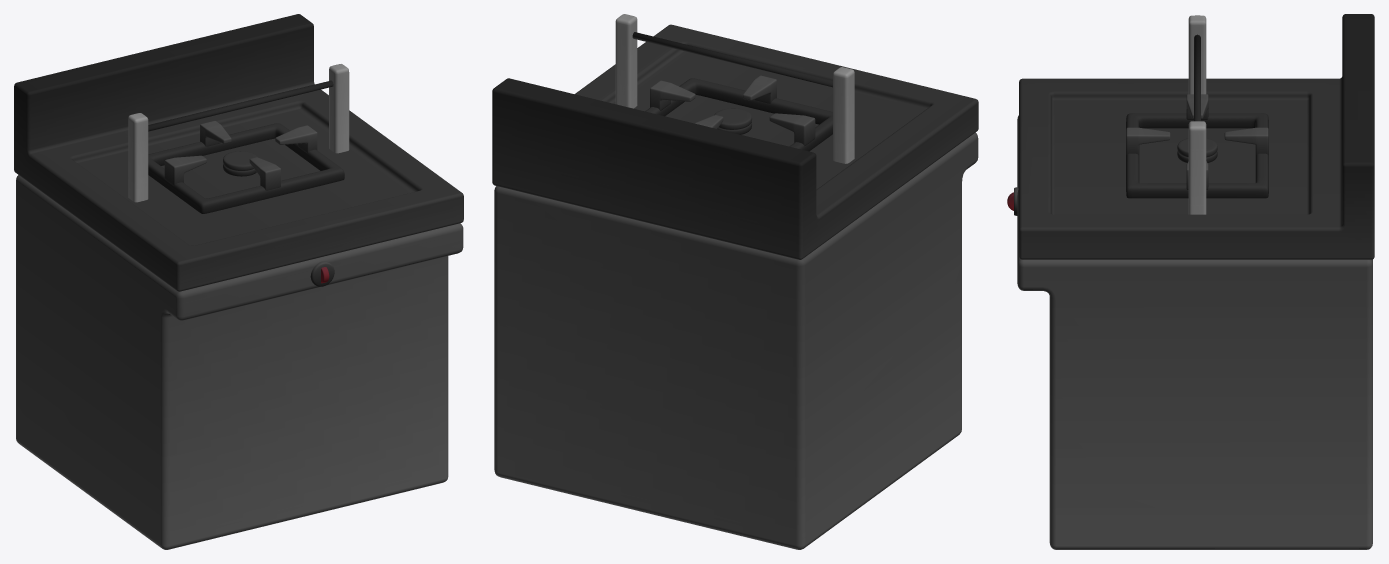
Rendered from HH_Flipper.fbx.
3 renders of one model, left to right at view 1: azimuth 30°, elevation 25°; view 2: azimuth 150°, elevation 25°; view 3: azimuth 270°, elevation 25°, orthographic. The views are drawn at different scales.
Parts seen in each view (by area): view 1: FlipperStation, Burner_Flipper, Stick; view 2: FlipperStation, Burner_Flipper, Stick; view 3: FlipperStation, Burner_Flipper, Stick.
Part boxes in pixels (x1=…): FlipperStation: x1=14, y1=14, x2=463, y2=549; Burner_Flipper: x1=148, y1=121, x2=344, y2=213; Stick: x1=128, y1=64, x2=349, y2=202; FlipperStation: x1=492, y1=24, x2=978, y2=549; Burner_Flipper: x1=645, y1=75, x2=832, y2=151; Stick: x1=615, y1=14, x2=854, y2=163; FlipperStation: x1=1017, y1=14, x2=1374, y2=549; Burner_Flipper: x1=1126, y1=94, x2=1268, y2=198; Stick: x1=1188, y1=15, x2=1206, y2=214.
Bounding box in the file's own units: 100 × 125 × 103.
Materials: 2 (2 with a texture image).
